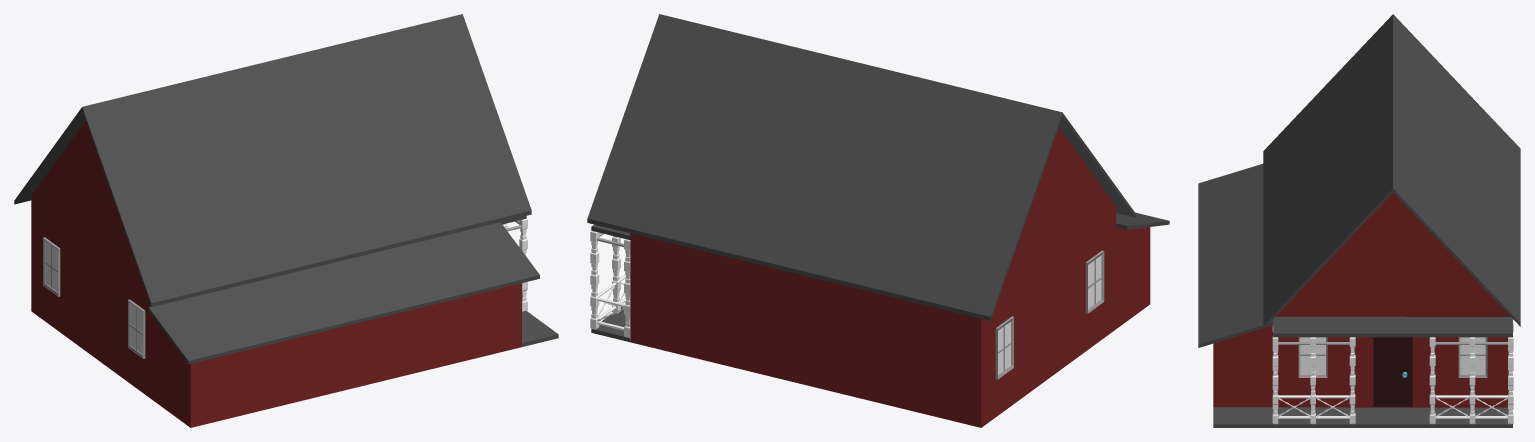
The model's file is Ass_House2_JC_001 (1).fbx.
The picture shows the model from 3 angles, left to right: view 1: azimuth 30°, elevation 25°; view 2: azimuth 150°, elevation 25°; view 3: azimuth 270°, elevation 25°; orthographic projection. The views are drawn at different scales.
Visible parts, largest first — view 1: MainRoof, MainBody, pCube1, window, window1, FrontPorch; view 2: MainRoof, MainBody, window1, window, BalconyPost1, pCube1, BalconyPost2, FrontPorch; view 3: MainRoof, MainBody, pCube1, FrontPorch, FrontPorch_Roof, door, window (×2), BalconyPost, BalconyPost7, BalconyPost5, BalconyPost4, BalconyPost1 (+1 smaller).
Part boxes in pixels (x1,y1,x2,y2): MainRoof: (14,14,531,307); MainBody: (31,121,521,427); pCube1: (148,222,539,364); window: (43,237,60,296); window1: (128,299,145,358); FrontPorch: (522,311,558,346); MainRoof: (587,14,1135,320); MainBody: (630,127,1150,427); window1: (1085,250,1104,313); window: (995,316,1013,379); BalconyPost1: (590,230,599,329); pCube1: (1116,212,1169,229); BalconyPost2: (624,239,630,337); FrontPorch: (591,306,630,341); MainRoof: (1263,14,1520,328); MainBody: (1213,192,1510,407); pCube1: (1198,164,1273,347); FrontPorch: (1213,407,1512,427); FrontPorch_Roof: (1273,316,1512,337); door: (1373,337,1412,406); window (×2): (1298,337,1487,377); BalconyPost: (1272,336,1278,424); BalconyPost7: (1469,337,1475,424); BalconyPost5: (1349,337,1355,424); BalconyPost4: (1429,337,1435,424); BalconyPost1: (1508,336,1513,424).
Bounding box in the file's own units: 20.74 × 13.21 × 16.15.
